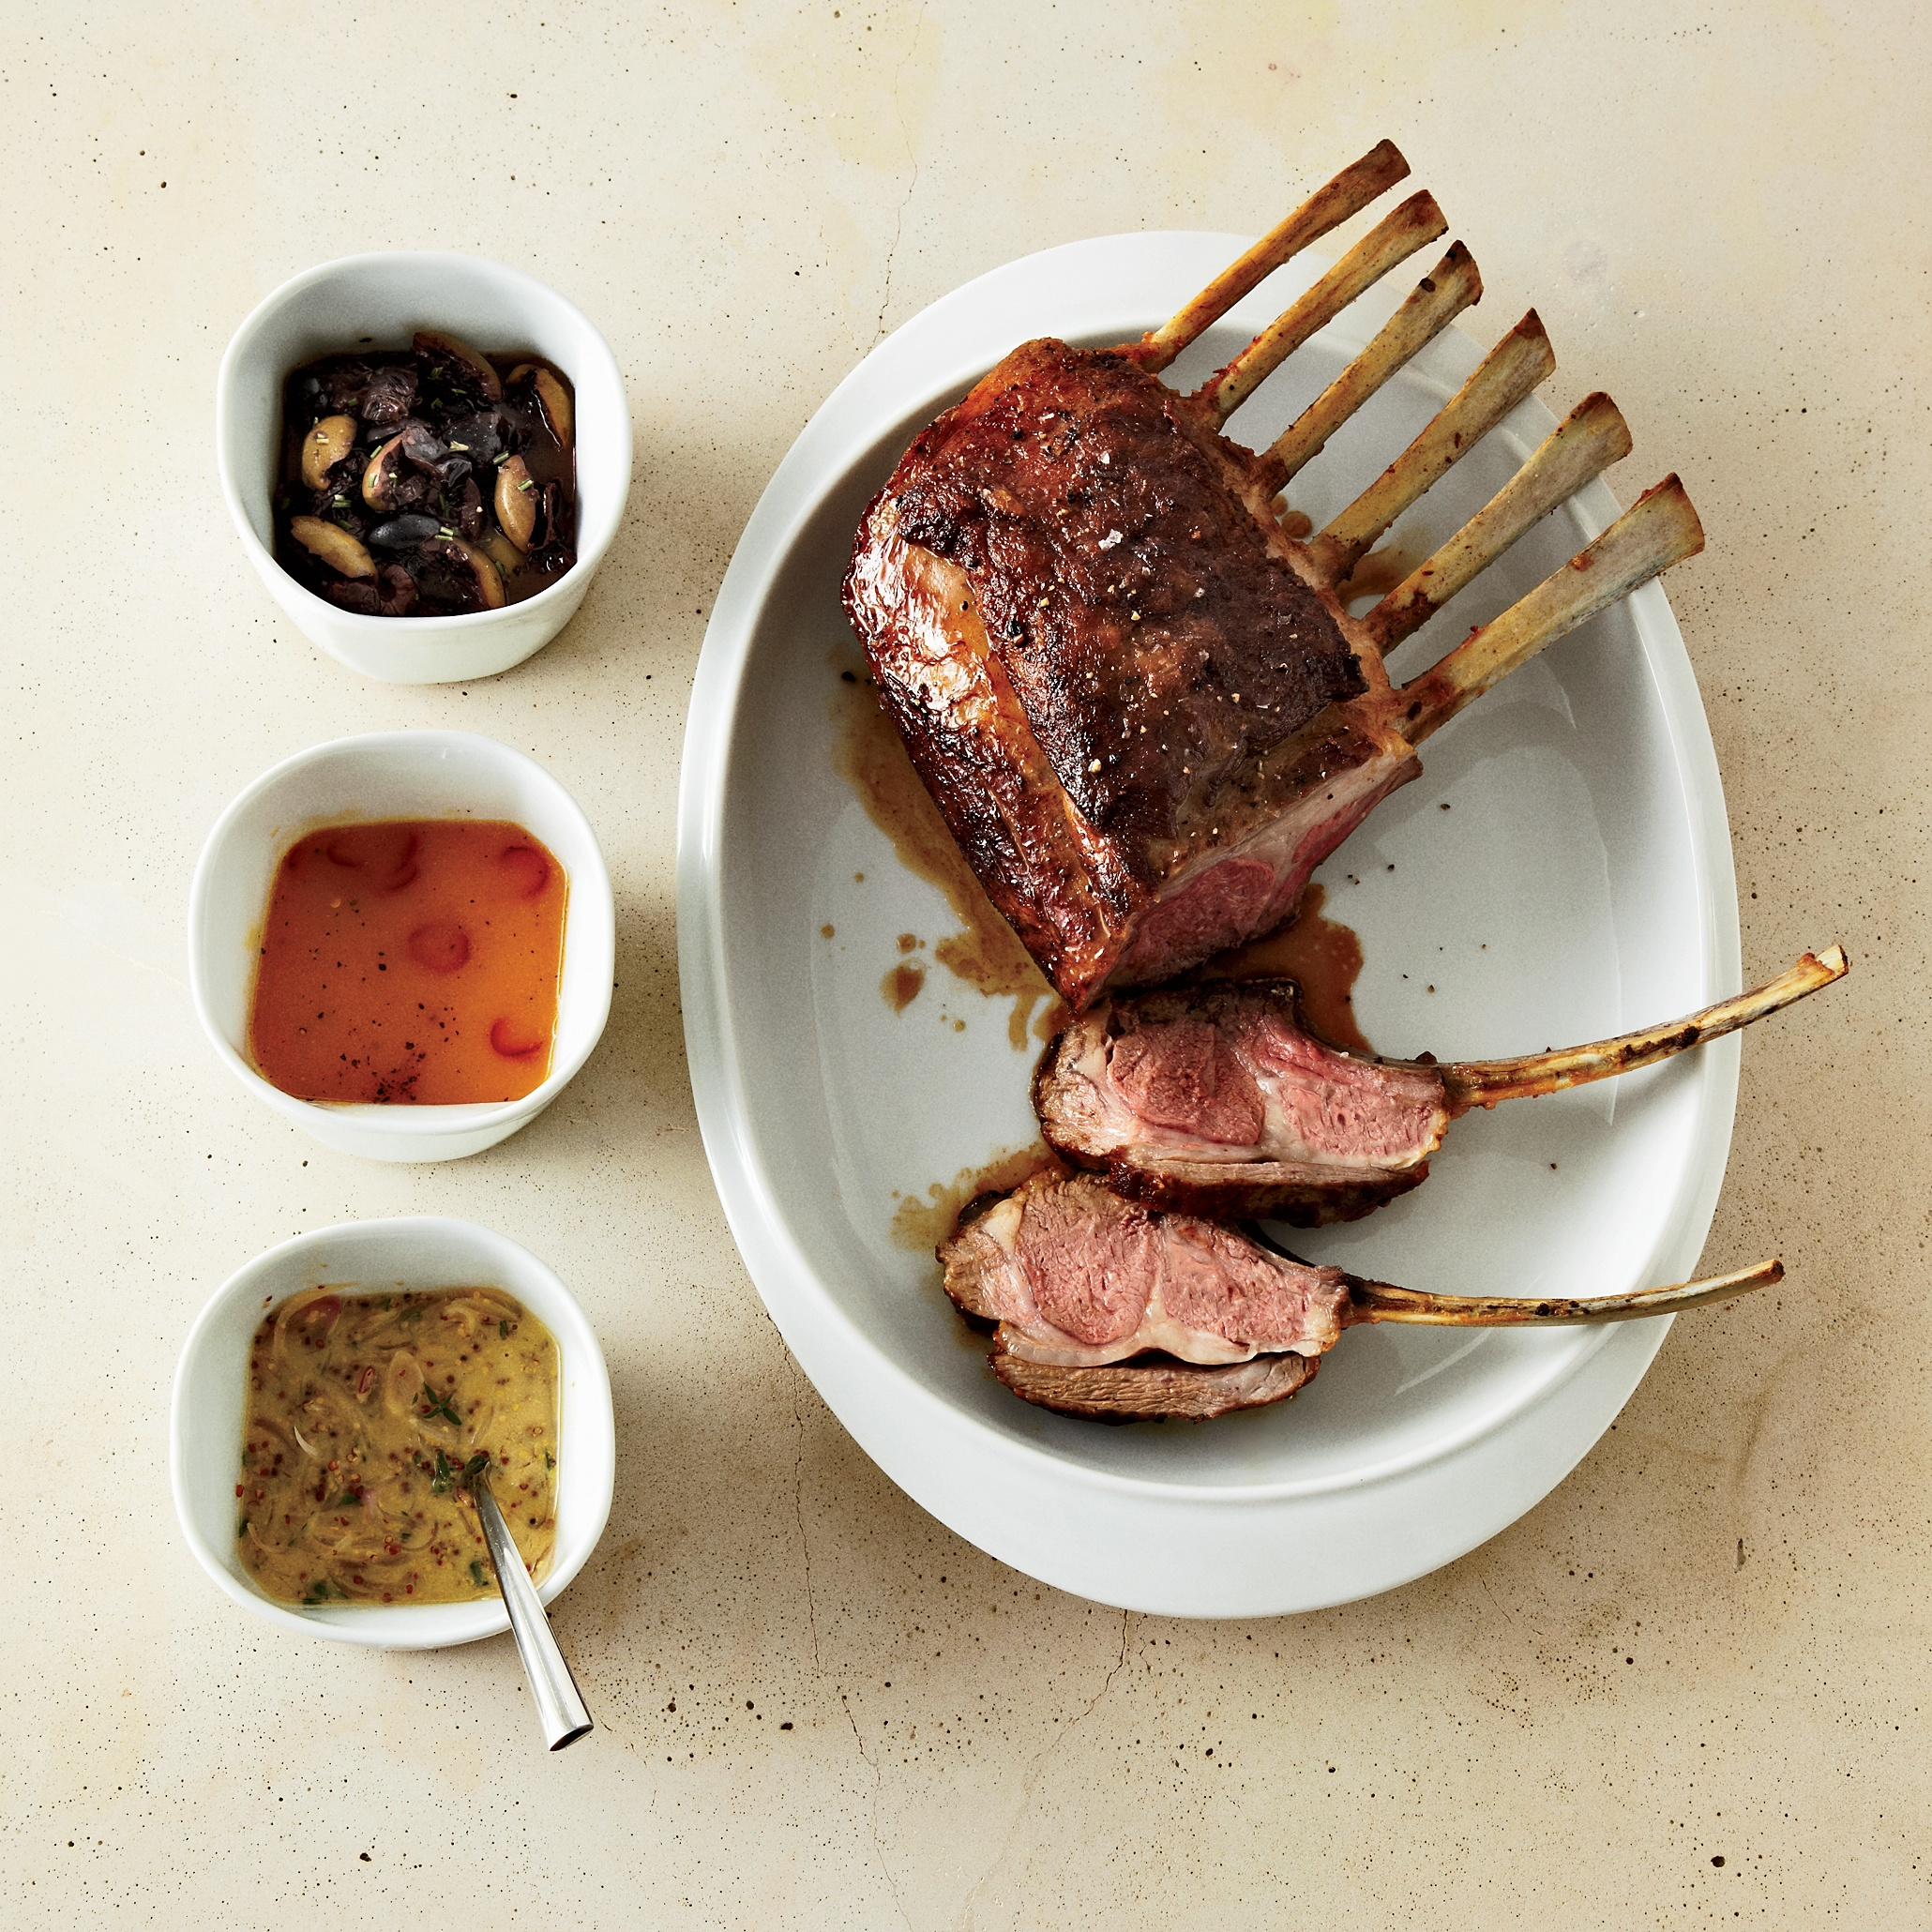background: (860, 931, 1856, 1932)
